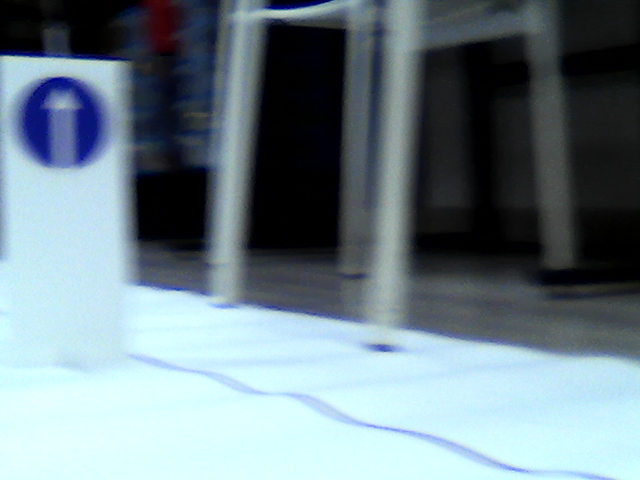forw: (14, 72, 104, 171)
